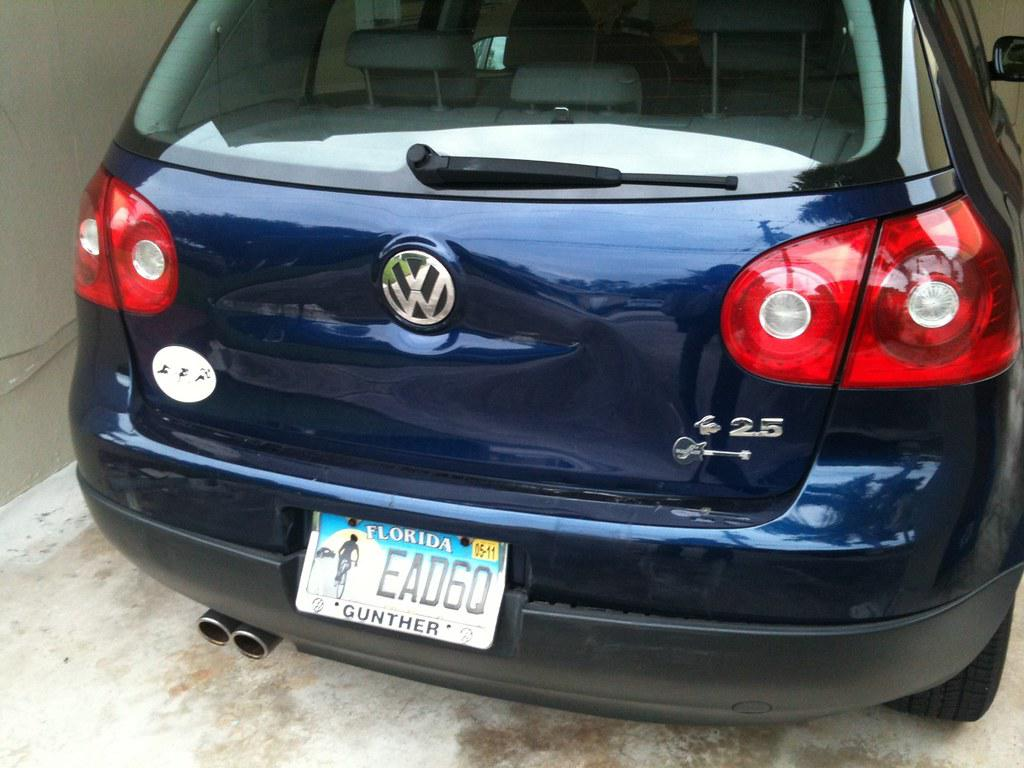boot-dent: (116, 155, 757, 492)
